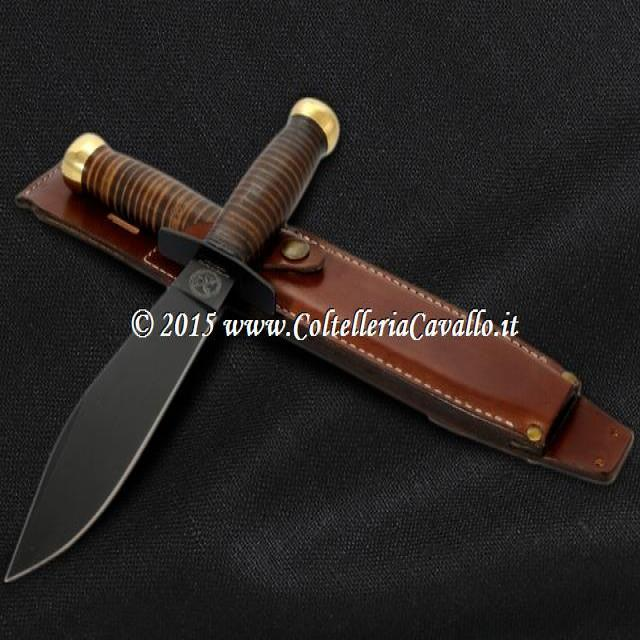knife: (6, 91, 343, 591)
